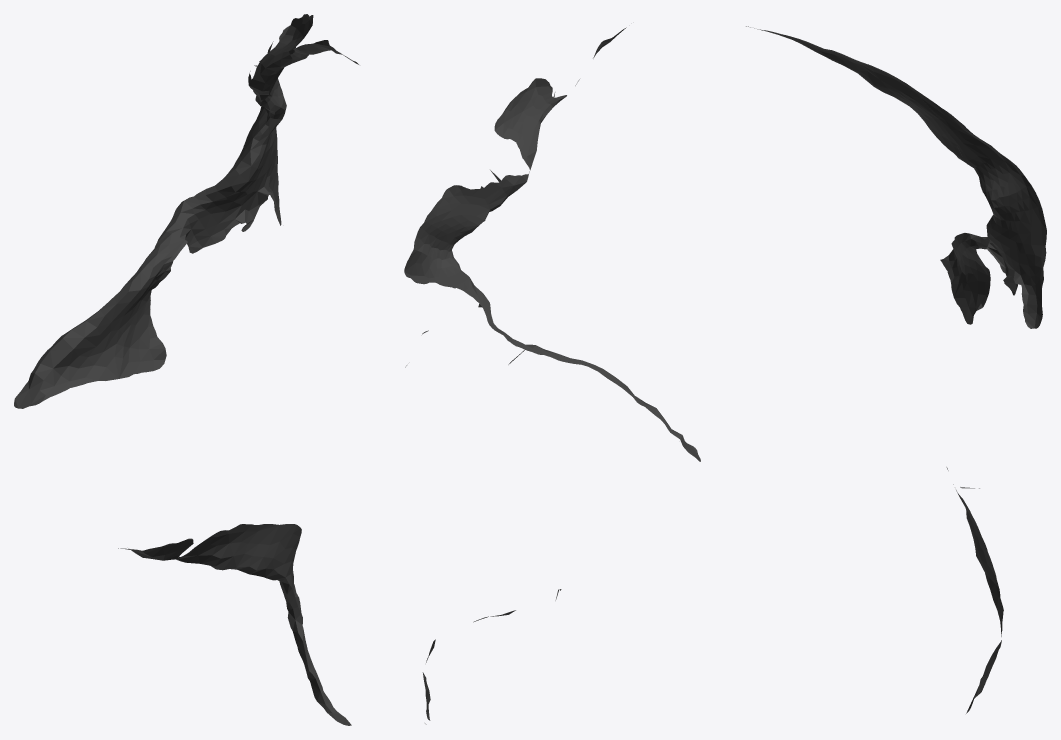
The model's file is M_diaphragm_M_diaphragm.glb.
The picture shows the model from 3 angles, left to right: view 1: azimuth 30°, elevation 25°; view 2: azimuth 150°, elevation 25°; view 3: azimuth 270°, elevation 25°; orthographic projection. The views are drawn at different scales.
Visible parts, largest first — view 1: M_diaphragm_M_diaphragm; view 2: M_diaphragm_M_diaphragm; view 3: M_diaphragm_M_diaphragm.
Boxes of the visible parts, x1,y1,x2,y2 form: M_diaphragm_M_diaphragm: (14,14,358,725); M_diaphragm_M_diaphragm: (404,27,700,724); M_diaphragm_M_diaphragm: (746,26,1046,713).
Bounding box in the file's own units: 0.0364 × 0.0825 × 0.0361.
Materials: 1 (1 with a texture image).
